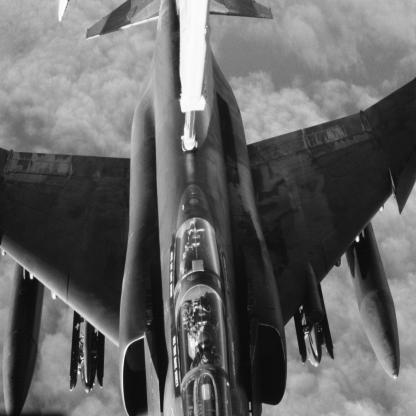F4: (1, 1, 416, 416)
